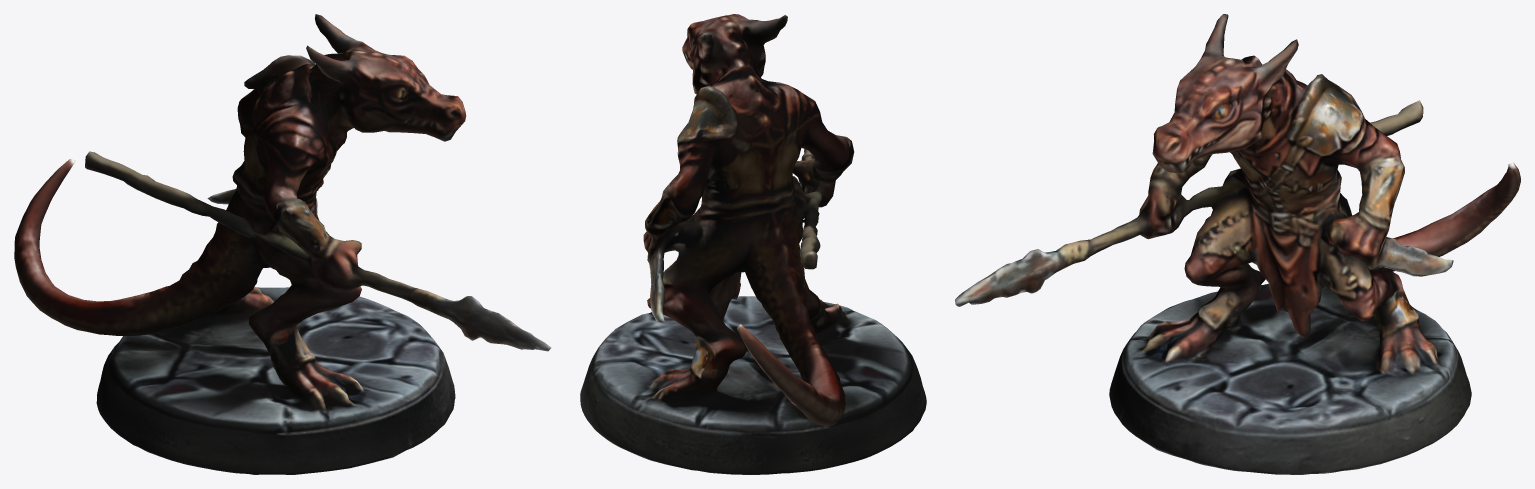
The model's file is kobold.glb.
3 renders of one model, left to right at view 1: azimuth 30°, elevation 25°; view 2: azimuth 150°, elevation 25°; view 3: azimuth 270°, elevation 25°, orthographic. The views are drawn at different scales.
Visible parts, largest first — view 1: lagrange_node; view 2: lagrange_node; view 3: lagrange_node.
Boxes of the visible parts, left/top/right/bottom form: lagrange_node: left=14, top=14, right=551, bottom=474; lagrange_node: left=580, top=14, right=926, bottom=474; lagrange_node: left=955, top=14, right=1520, bottom=474.
Size of the model in its own units: 1.29 by 1.45 by 1.92.
Materials: 1 (1 with a texture image).
